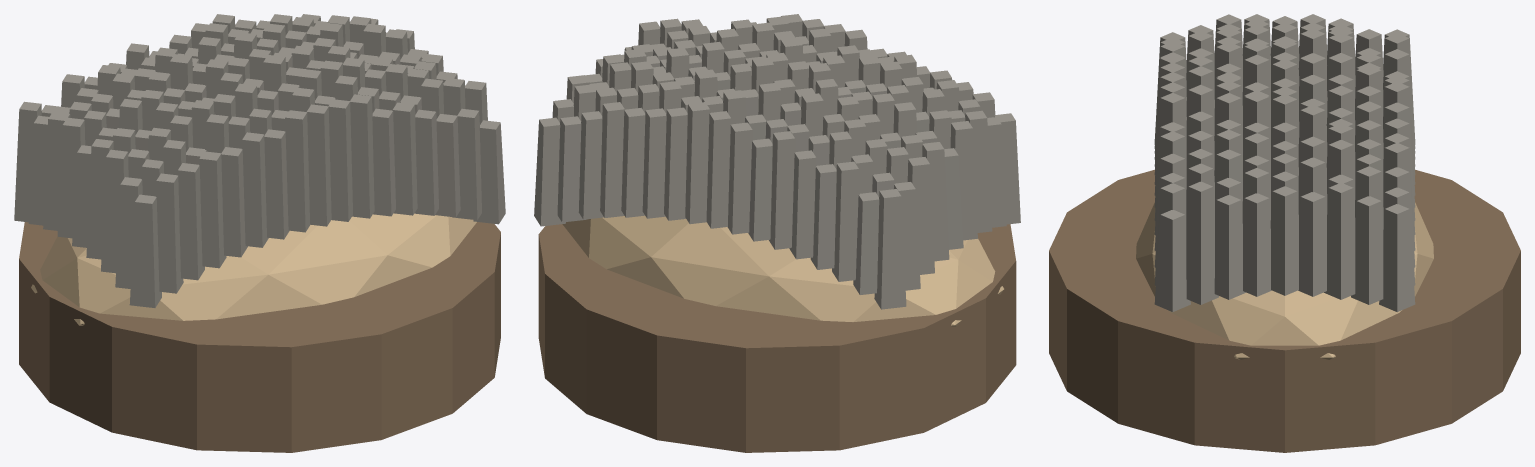
Rendered from face_brush.glb.
3 views of the same model, side by side, from view 1: azimuth 30°, elevation 25°; view 2: azimuth 150°, elevation 25°; view 3: azimuth 270°, elevation 25° (orthographic). The views are drawn at different scales.
Visible parts, largest first — view 1: face_brush; view 2: face_brush; view 3: face_brush.
Boxes of the visible parts, bbox=[...] form: face_brush: bbox=[14, 14, 505, 452]; face_brush: bbox=[534, 14, 1020, 452]; face_brush: bbox=[1049, 14, 1520, 452].
Bounding box in the file's own units: 0.0833 × 0.0574 × 0.0833.
